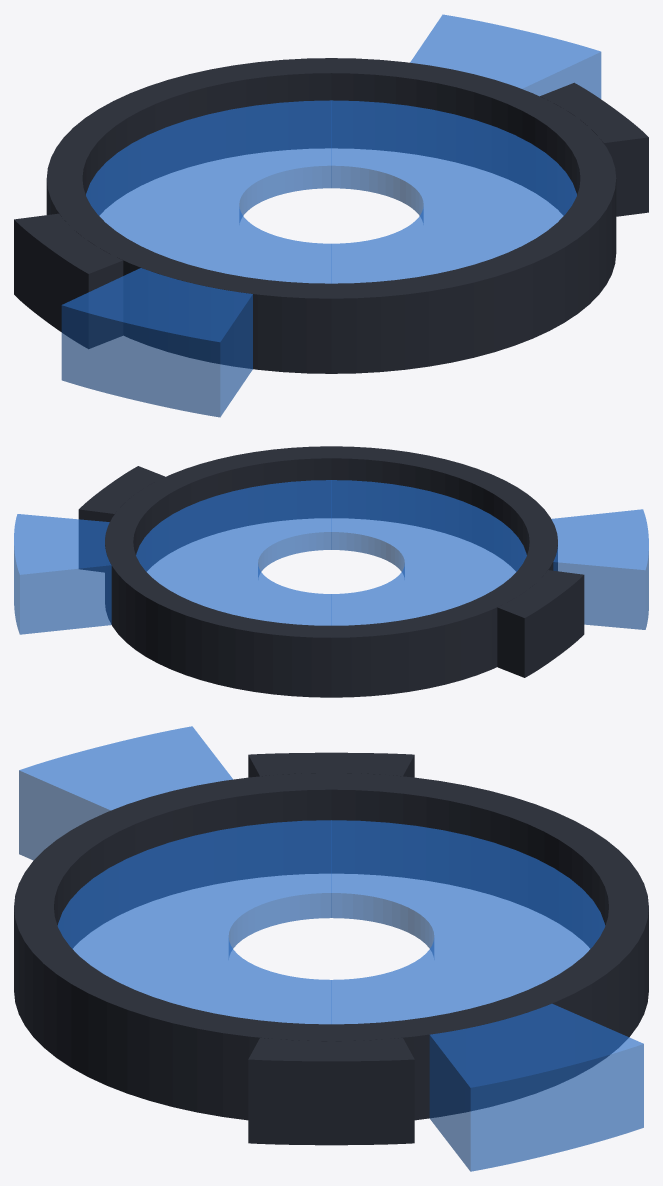
Rendered from core_void_falcon.glb.
3 renders of one model, top to bottom at view 1: azimuth 30°, elevation 25°; view 2: azimuth 150°, elevation 25°; view 3: azimuth 270°, elevation 25°, orthographic. The views are drawn at different scales.
Visible parts, largest first — view 1: GEO_core_void_falcon_HUB, GEO_core_void_falcon_NSS_V1_COLLAR, GEO_core_void_falcon_OUTER_ARC_2, GEO_core_void_falcon_INNER_ARC_2, GEO_core_void_falcon_OUTER_ARC_1, GEO_core_void_falcon_INNER_ARC_1; view 2: GEO_core_void_falcon_HUB, GEO_core_void_falcon_NSS_V1_COLLAR, GEO_core_void_falcon_OUTER_ARC_1, GEO_core_void_falcon_OUTER_ARC_2, GEO_core_void_falcon_INNER_ARC_2, GEO_core_void_falcon_INNER_ARC_1; view 3: GEO_core_void_falcon_HUB, GEO_core_void_falcon_NSS_V1_COLLAR, GEO_core_void_falcon_OUTER_ARC_1, GEO_core_void_falcon_INNER_ARC_1, GEO_core_void_falcon_OUTER_ARC_2, GEO_core_void_falcon_INNER_ARC_2.
Part boxes in pixels (bbox=[...]): GEO_core_void_falcon_HUB: bbox=[46, 58, 616, 373]; GEO_core_void_falcon_NSS_V1_COLLAR: bbox=[86, 100, 576, 283]; GEO_core_void_falcon_OUTER_ARC_2: bbox=[61, 268, 252, 417]; GEO_core_void_falcon_INNER_ARC_2: bbox=[14, 213, 123, 348]; GEO_core_void_falcon_OUTER_ARC_1: bbox=[410, 14, 601, 98]; GEO_core_void_falcon_INNER_ARC_1: bbox=[540, 82, 648, 216]; GEO_core_void_falcon_HUB: bbox=[105, 446, 557, 697]; GEO_core_void_falcon_NSS_V1_COLLAR: bbox=[136, 480, 526, 625]; GEO_core_void_falcon_OUTER_ARC_1: bbox=[14, 514, 111, 634]; GEO_core_void_falcon_OUTER_ARC_2: bbox=[551, 509, 648, 629]; GEO_core_void_falcon_INNER_ARC_2: bbox=[497, 570, 584, 677]; GEO_core_void_falcon_INNER_ARC_1: bbox=[78, 466, 165, 572]; GEO_core_void_falcon_HUB: bbox=[14, 773, 648, 1120]; GEO_core_void_falcon_NSS_V1_COLLAR: bbox=[57, 820, 605, 1024]; GEO_core_void_falcon_OUTER_ARC_1: bbox=[429, 1004, 643, 1171]; GEO_core_void_falcon_INNER_ARC_1: bbox=[248, 1038, 414, 1145]; GEO_core_void_falcon_OUTER_ARC_2: bbox=[19, 726, 232, 860]; GEO_core_void_falcon_INNER_ARC_2: bbox=[248, 752, 414, 777].
Bounding box in the file's own units: 0.0333 × 0.0036 × 0.0247.
